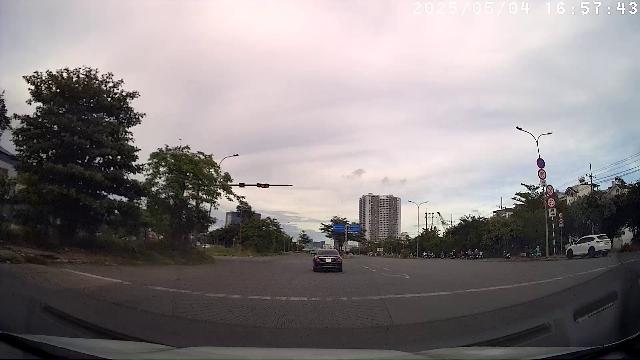127-toc-do-toi-da-60: (546, 197, 556, 208)
127-toc-do-toi-da-80: (538, 169, 547, 180)
130-cam-dung-va-do-xe: (537, 158, 545, 169)
